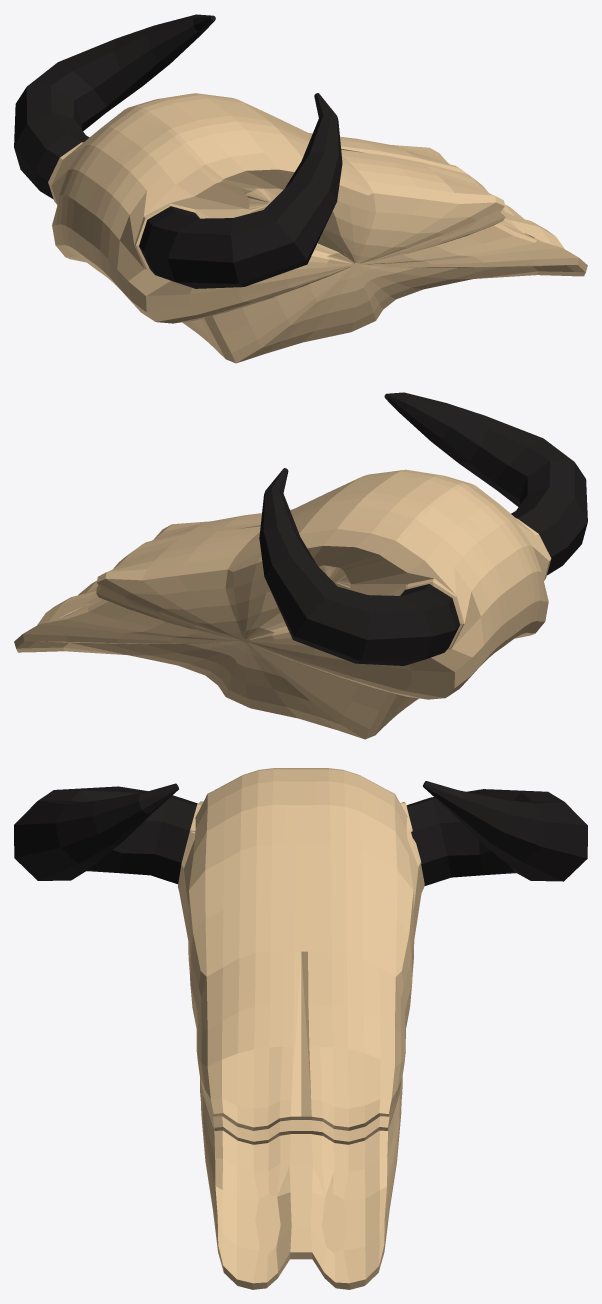
The model's file is crane.gltf.
The picture shows the model from 3 angles, top to bottom: view 1: azimuth 30°, elevation 25°; view 2: azimuth 150°, elevation 25°; view 3: azimuth 270°, elevation 25°; orthographic projection. The views are drawn at different scales.
Parts seen in each view (by area): view 1: Crane, CorneG, CorneD; view 2: Crane, CorneD, CorneG; view 3: Crane, CorneG, CorneD.
Part boxes in pixels (x1=…): Crane: x1=48, y1=93, x2=587, y2=363; CorneG: x1=139, y1=93, x2=342, y2=288; CorneD: x1=14, y1=14, x2=215, y2=199; Crane: x1=14, y1=469, x2=551, y2=739; CorneD: x1=259, y1=468, x2=460, y2=665; CorneG: x1=384, y1=392, x2=587, y2=575; Crane: x1=177, y1=768, x2=424, y2=1289; CorneG: x1=14, y1=783, x2=197, y2=884; CorneD: x1=407, y1=781, x2=587, y2=885.
Size of the model in its own units: 3.34 by 1.85 by 2.87.
2 materials, 2 textured.
